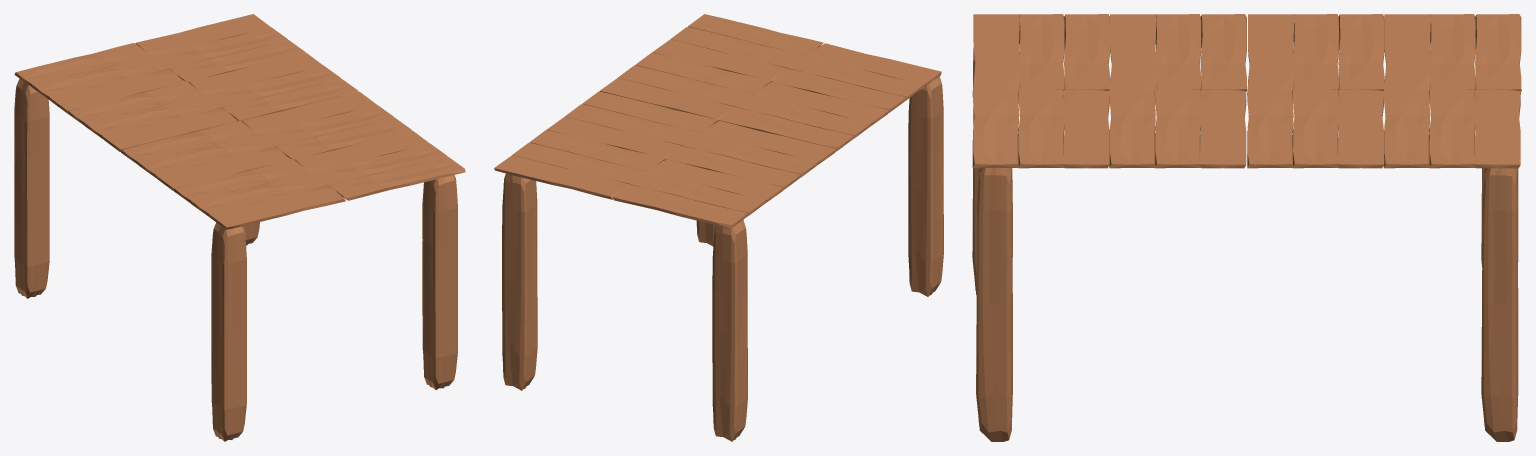
3 views of the same model, side by side, from view 1: azimuth 30°, elevation 25°; view 2: azimuth 150°, elevation 25°; view 3: azimuth 270°, elevation 25° (orthographic). The views are drawn at different scales.
Visible parts, largest first — view 1: Cube.007; view 2: Cube.007; view 3: Cube.007.
Part boxes in pixels (box(x1,y1,x2,y2)): Cube.007: box(14, 14, 465, 441); Cube.007: box(494, 14, 943, 441); Cube.007: box(972, 14, 1521, 441).
Size of the model in its own units: 644 by 561 by 981.
